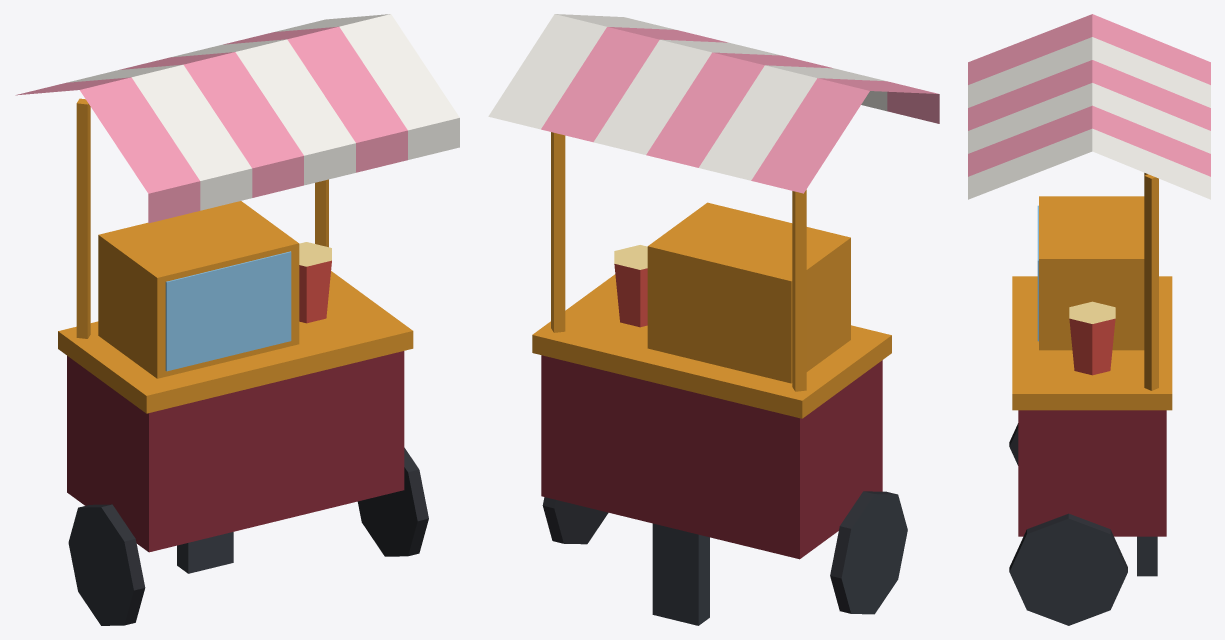
File: P_PopcornCart.fbx
3 views of the same model, side by side, from view 1: azimuth 30°, elevation 25°; view 2: azimuth 150°, elevation 25°; view 3: azimuth 270°, elevation 25° (orthographic). The views are drawn at different scales.
Visible parts, largest first — view 1: P_PopcornCart; view 2: P_PopcornCart; view 3: P_PopcornCart.
Part boxes in pixels (<box>): P_PopcornCart: <box>15,14,459,625</box>; P_PopcornCart: <box>488,14,939,625</box>; P_PopcornCart: <box>968,14,1210,625</box>.
Size of the model in its own units: 1.1 by 1.8 by 0.82.
